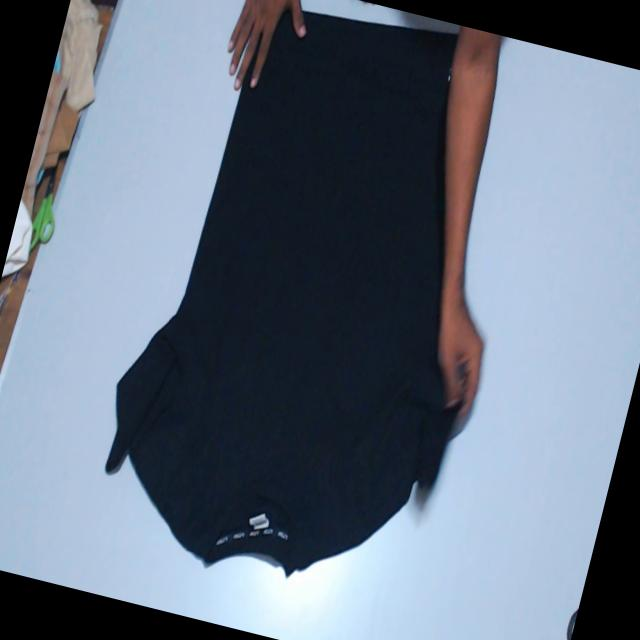new-garment: (106, 14, 457, 573)
